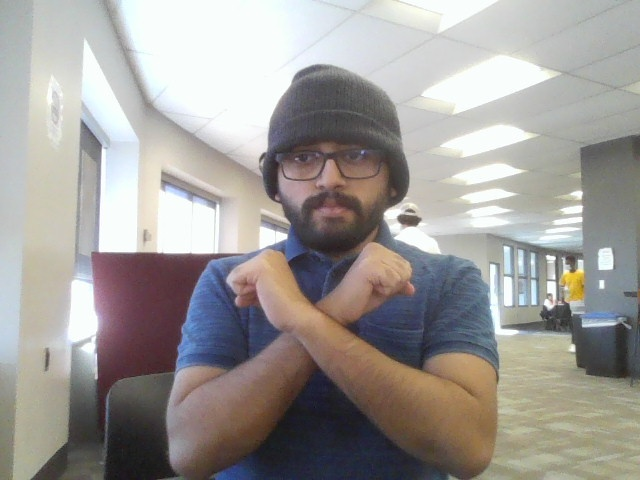start: (218, 240, 440, 448)
